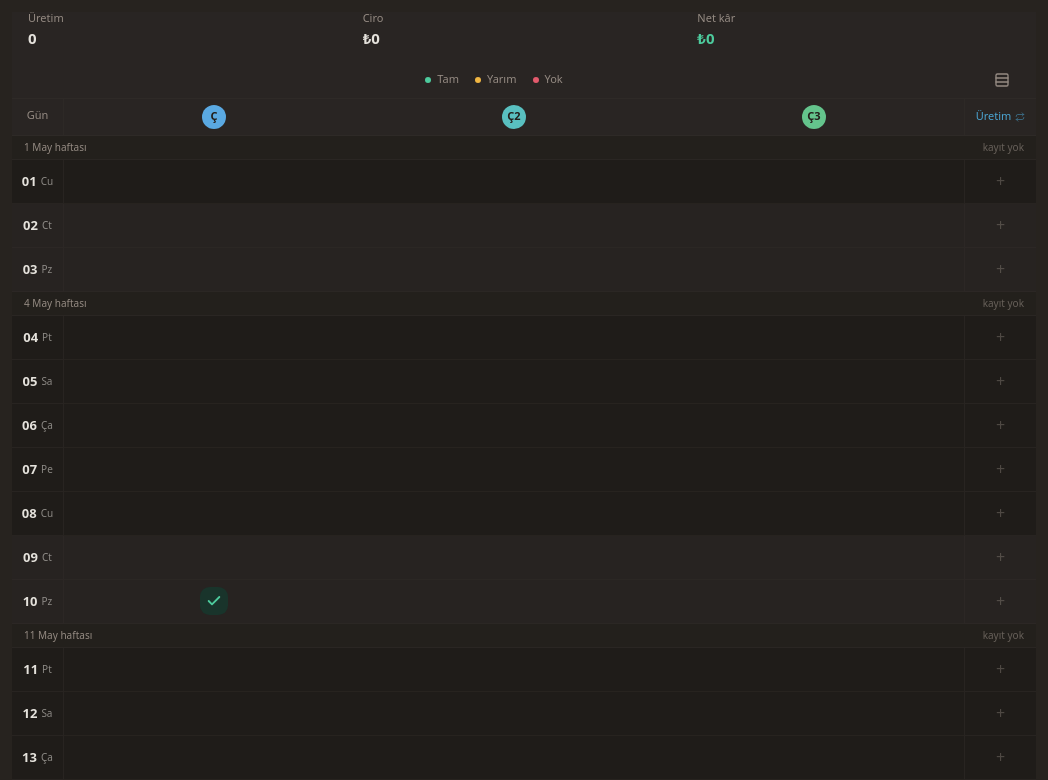
Test: puantaj hücresi geri bildirimi › titreşimi desteklemeyen cihazda hata fırlatmaz
Click the button named "Çalışan 1, 10 Mayıs Pazar: Tam".
click(214, 602)  # box [64,580,364,624]
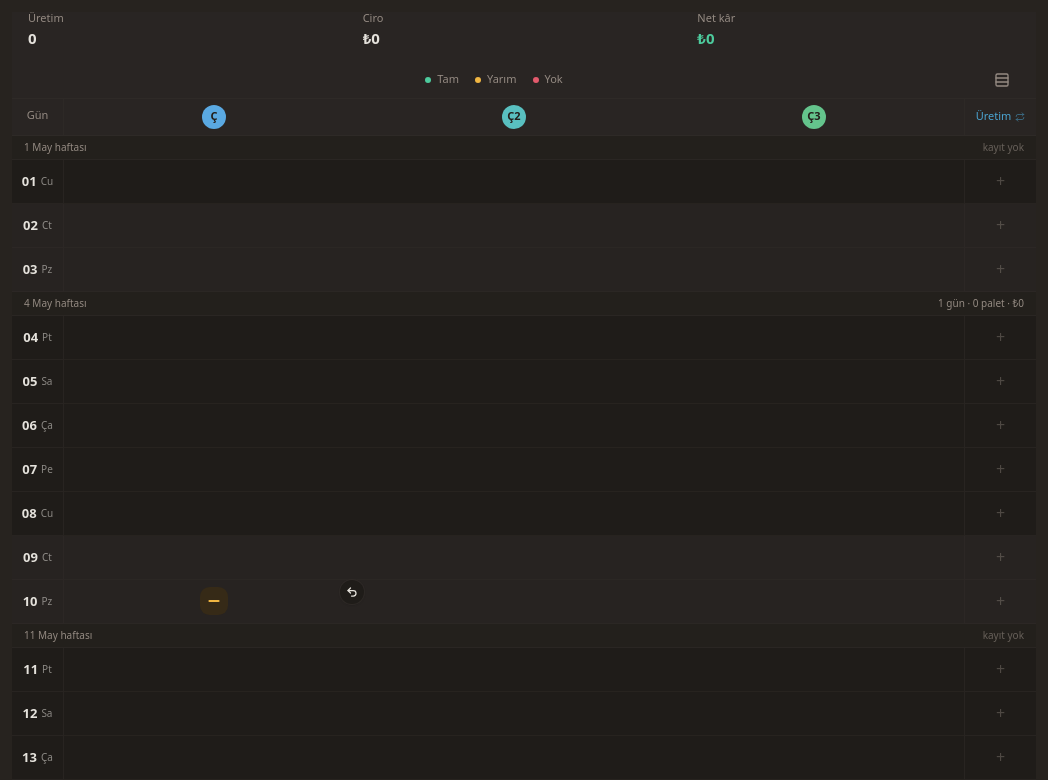
Expected: the button named "Çalışan 1, 10 Mayıs Pazar: Yarım" is shown, [64,580,364,624]
